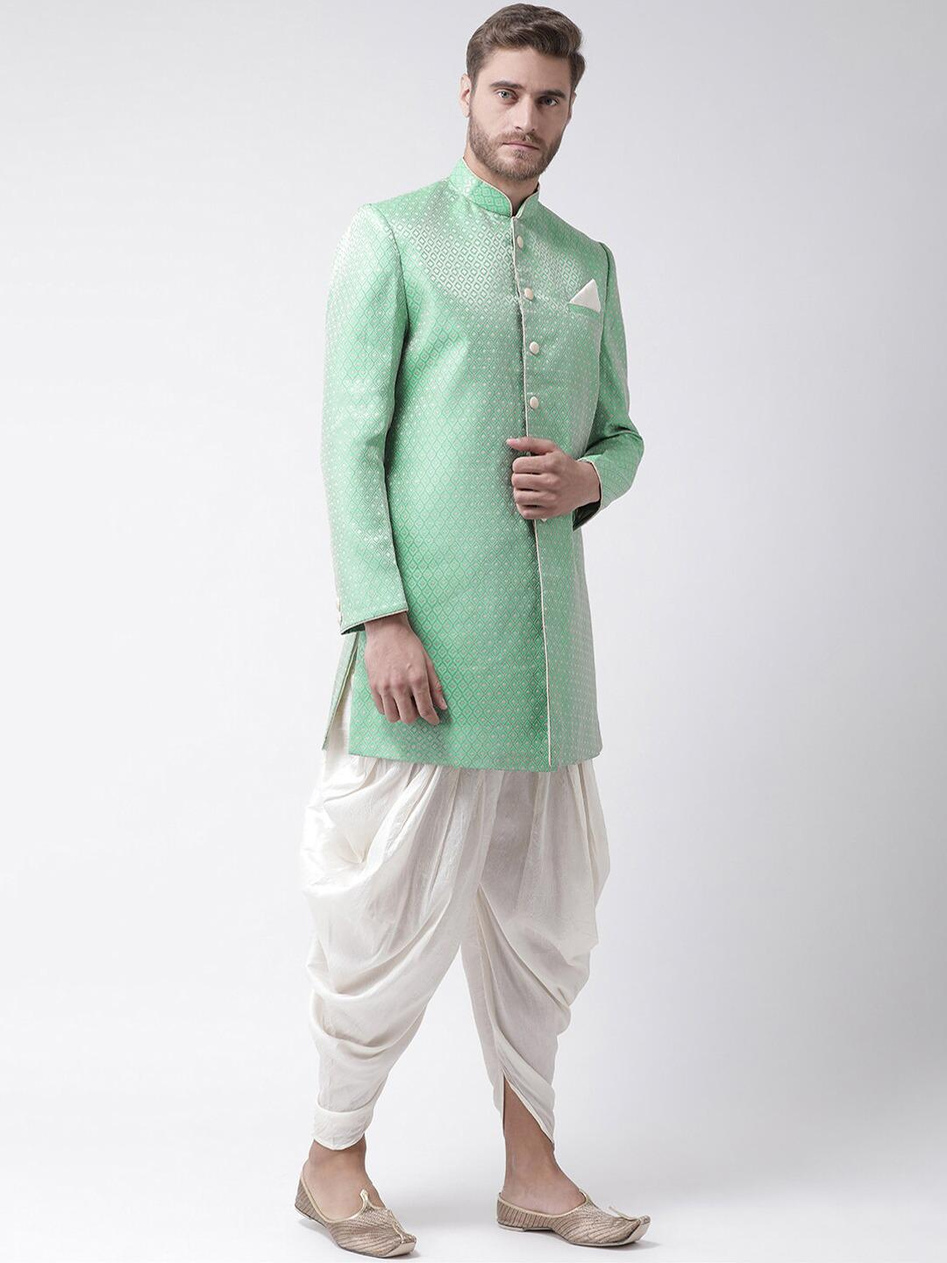Design Sherwani: (313, 156, 646, 778)
